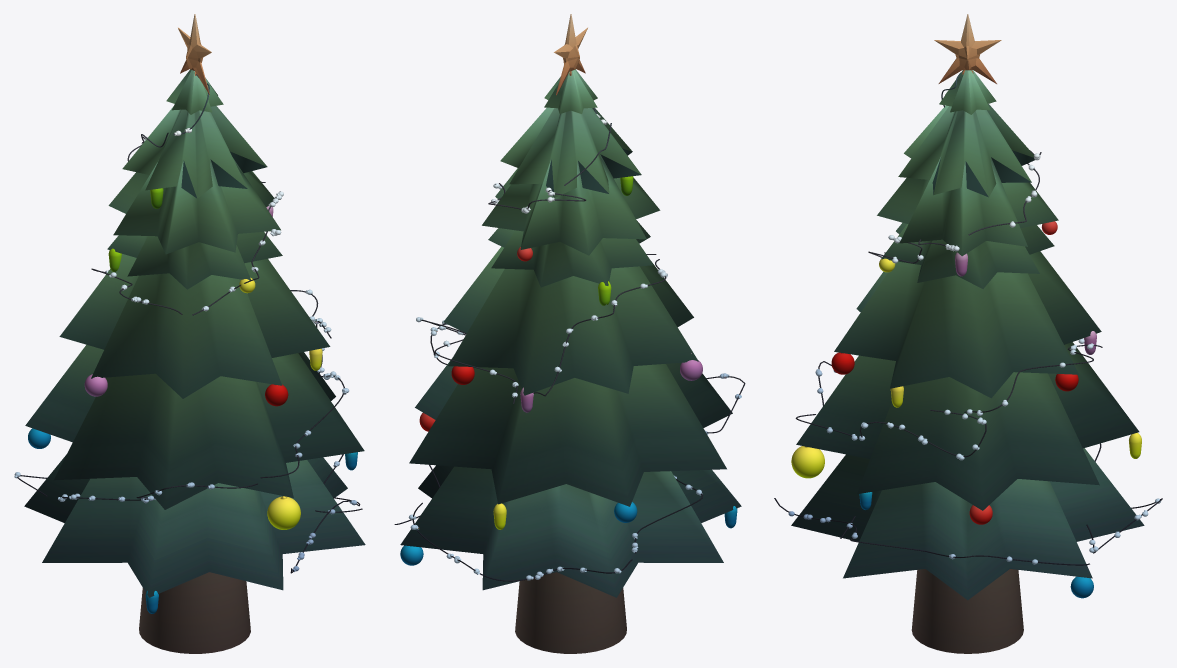
Rendered from SM_XMasTree_01.fbx.
3 renders of one model, left to right at view 1: azimuth 30°, elevation 25°; view 2: azimuth 150°, elevation 25°; view 3: azimuth 270°, elevation 25°, orthographic.
Visible parts, largest first — view 1: Cylinder; view 2: Cylinder; view 3: Cylinder.
Part boxes in pixels (x1,y1,x2,y2): Cylinder: (14,14,365,653); Cylinder: (394,14,745,653); Cylinder: (774,14,1162,653).
Size of the model in its own units: 631 by 1212 by 693.
